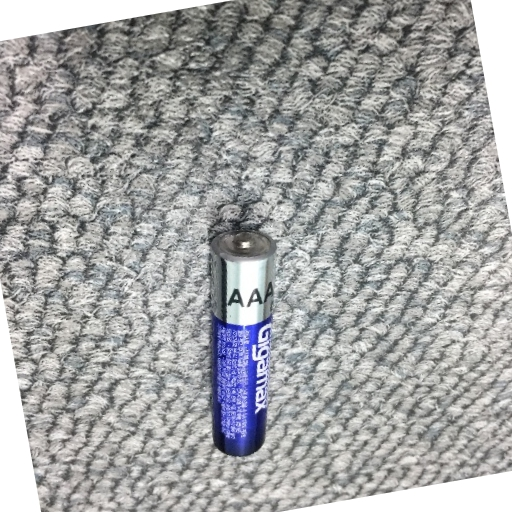Battery_0: (186, 216, 287, 465)
